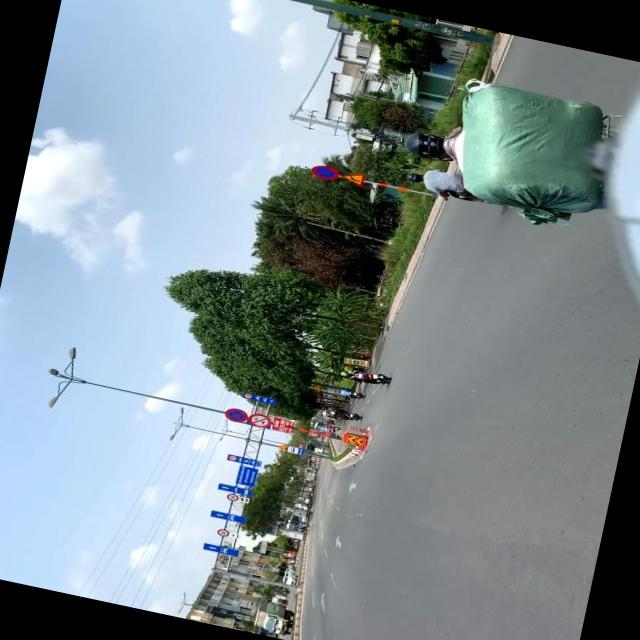P-130: (222, 404, 250, 423)
P-131a: (309, 162, 341, 183)
W-201b: (342, 169, 366, 185)
